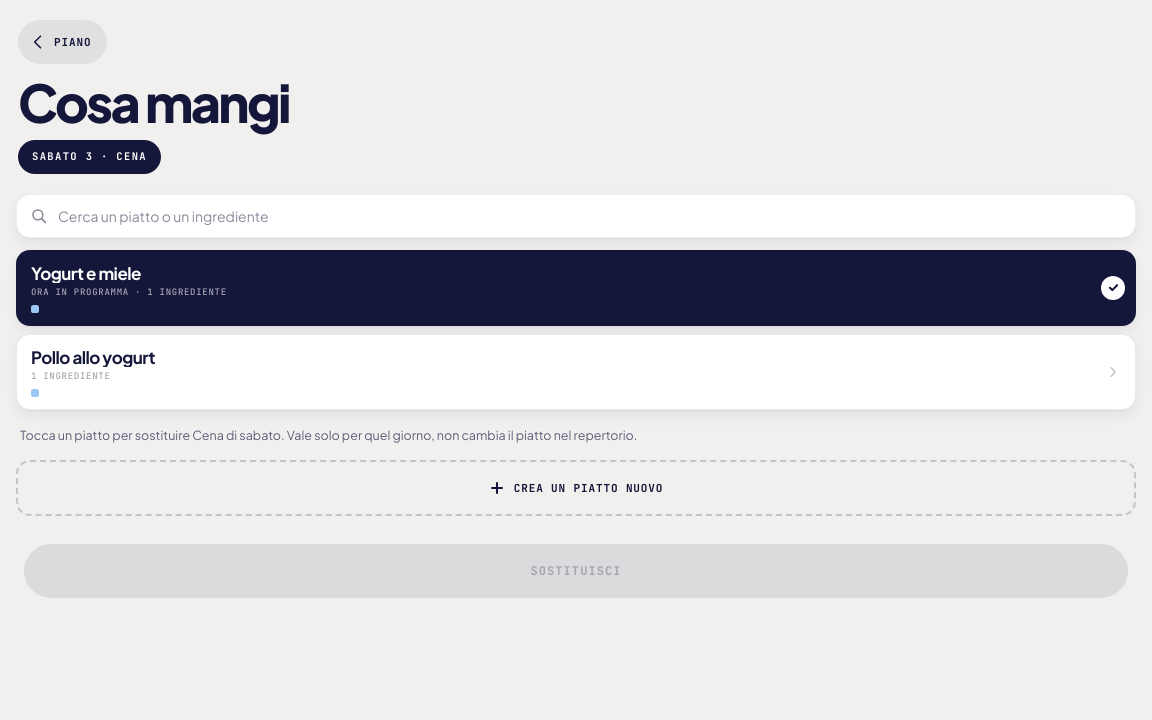
Test case: Conflitto di residuo › settimana chiusa: lo storno restituisce il piatto attuale, il mancante è il resto, senza coda se nessun altro pasto lo usa
Check: the text "Yogurt e miele" is shown, box [31, 262, 141, 284]
What coordinates should you click on to do the following:
click the text "Pollo allo yogurt"
I would click on:
 (93, 357)
Its box is [31, 346, 155, 368].
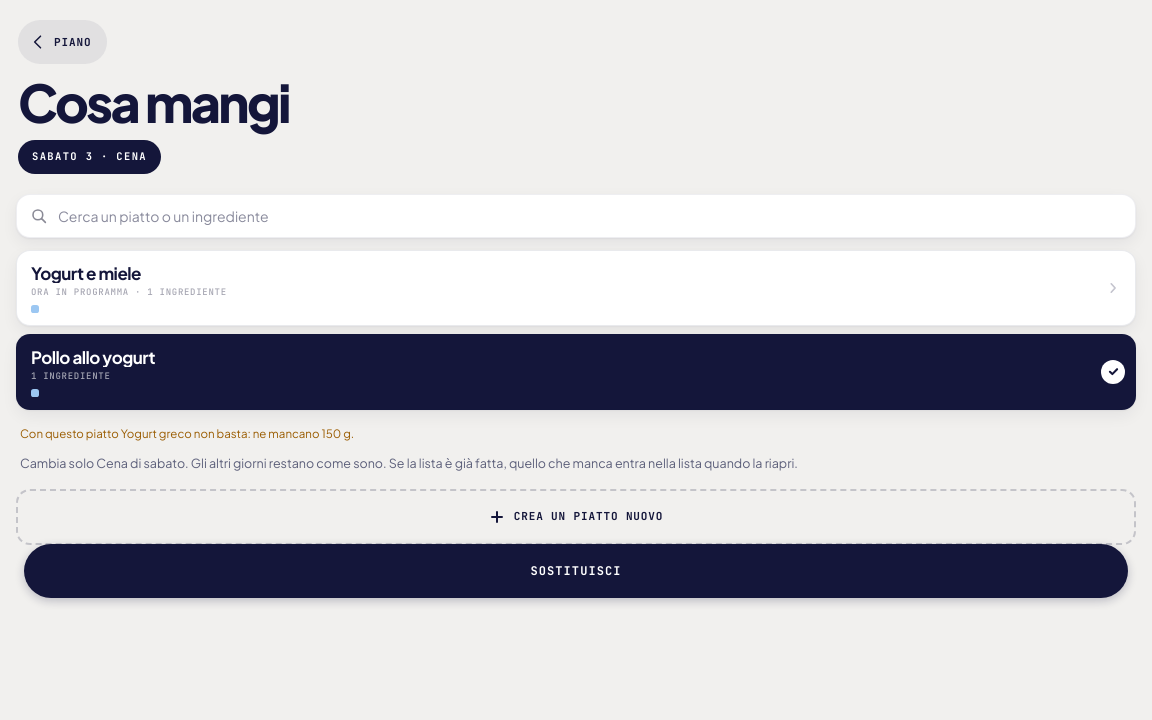
Check: the text "Con questo piatto Yogurt greco non basta: ne mancano 150 g." is shown, box [20, 426, 354, 441]
